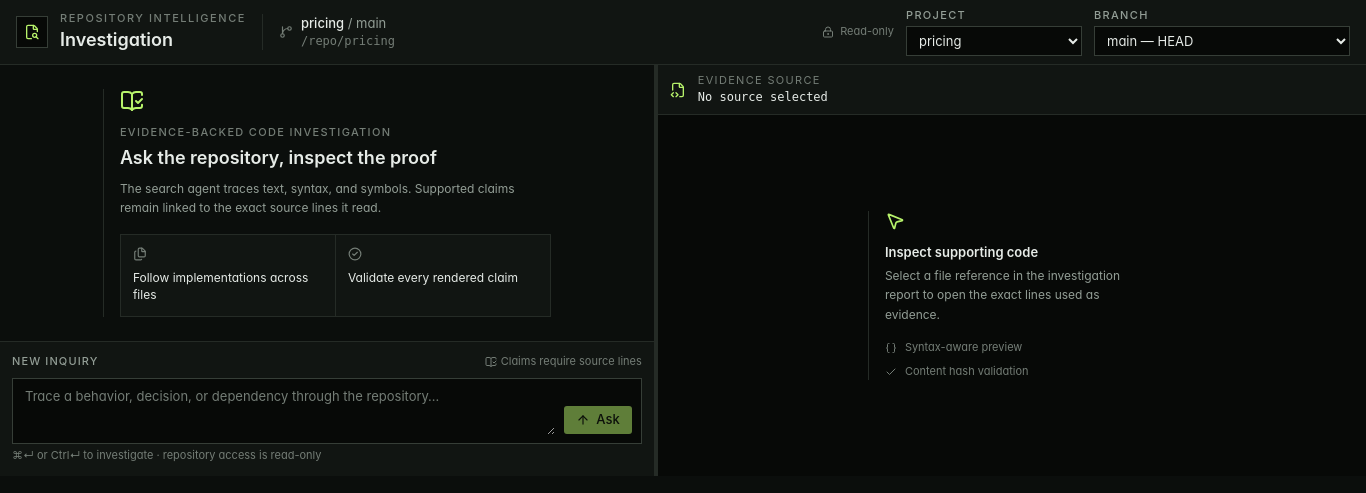
it: code search route › opens every claim citation at its exact file and line range
Replace the text in the text box named "Repository question" with "What is the recurring discount?" at (288, 411), box [21, 387, 555, 435]
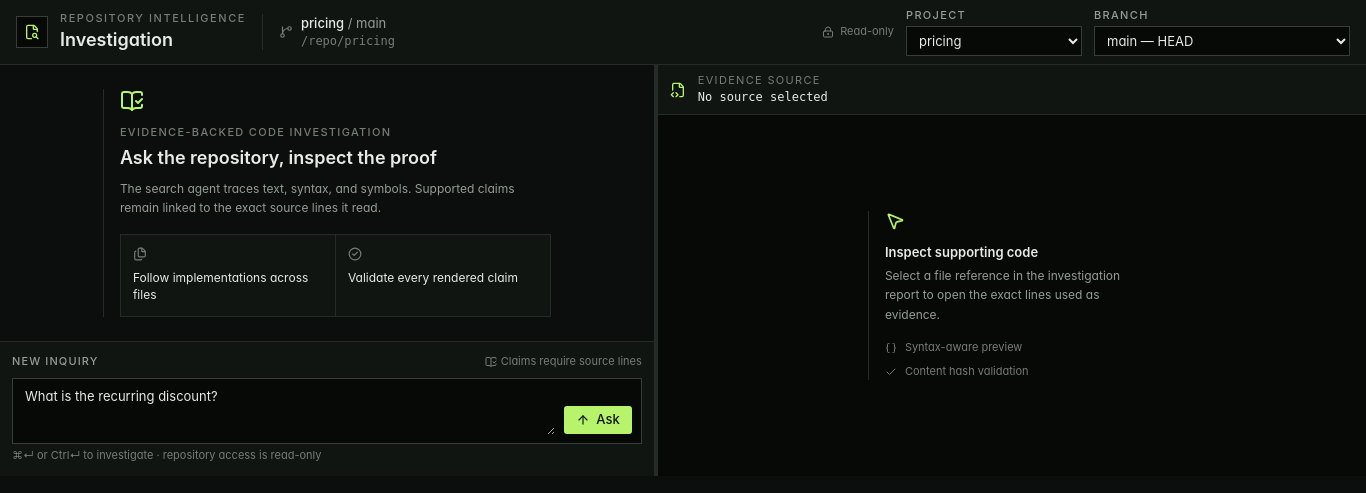
Click the button "Ask" at (598, 420), box [563, 405, 633, 435]
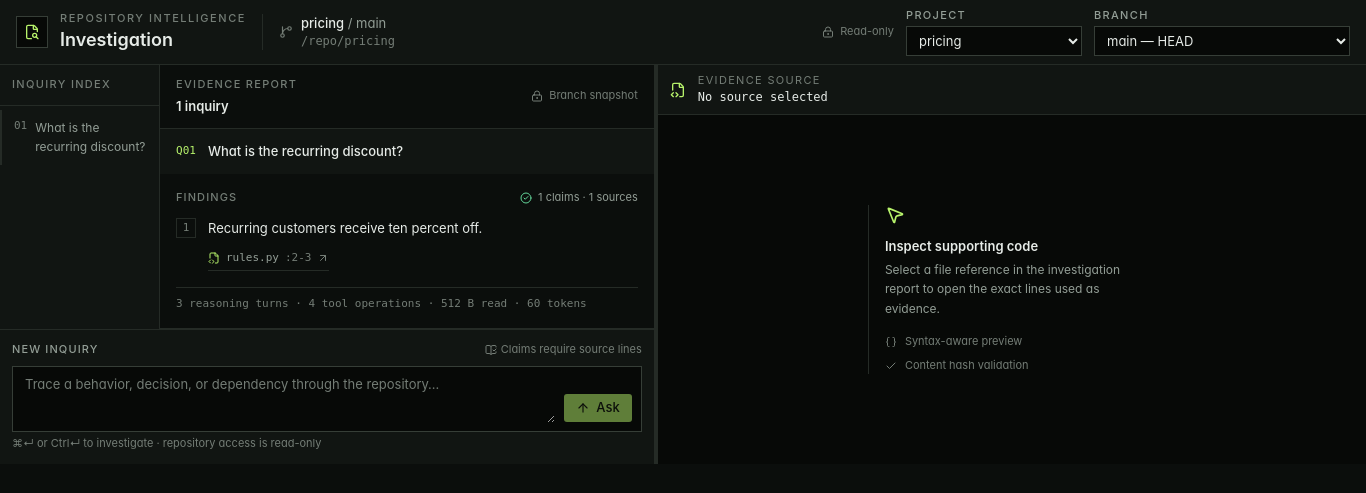
Now the text "Recurring customers receive ten percent off." is shown, box [208, 220, 482, 236]
Click the button with aria-label "Open rules.py lines 2-3" at (269, 259), box [208, 247, 330, 271]
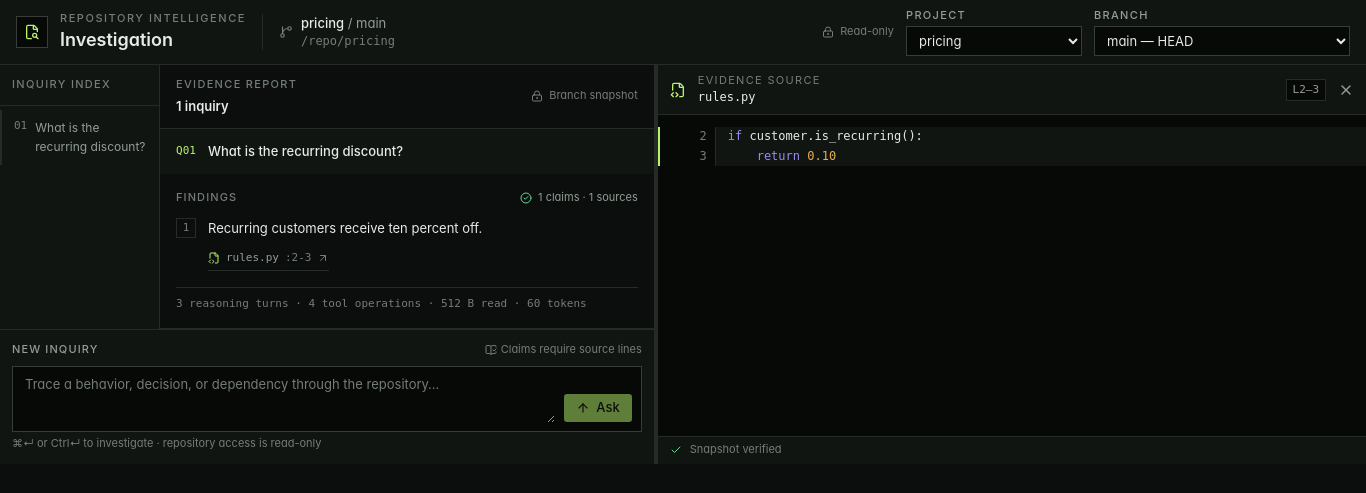
Now the element named "rules.py lines 2 through 3" shows "return 0.10", box [658, 115, 1365, 178]
